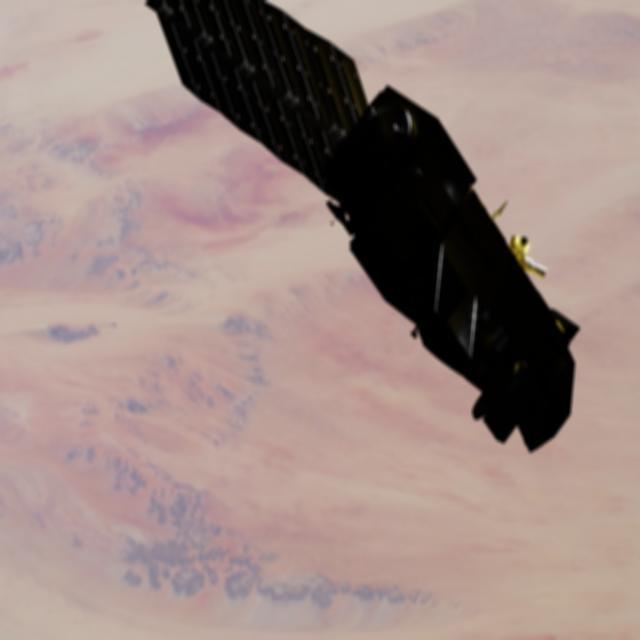satellite: (139, 0, 597, 439)
